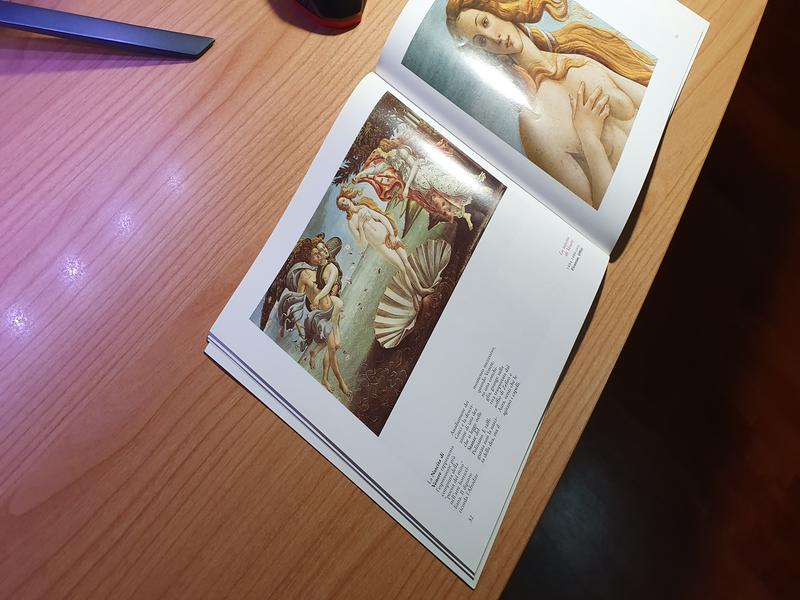Venere: (248, 90, 506, 438)
